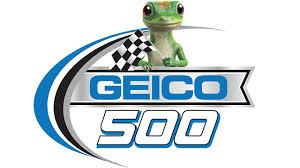geico: (88, 73, 236, 102)
